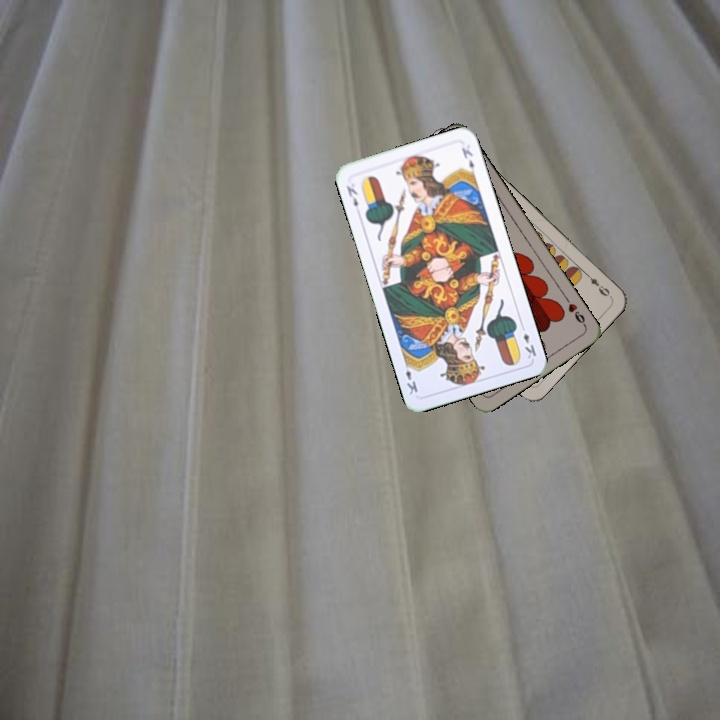E9: (581, 269, 613, 299)
EK: (517, 321, 539, 361), (342, 182, 360, 210)
H9: (561, 293, 588, 329)
